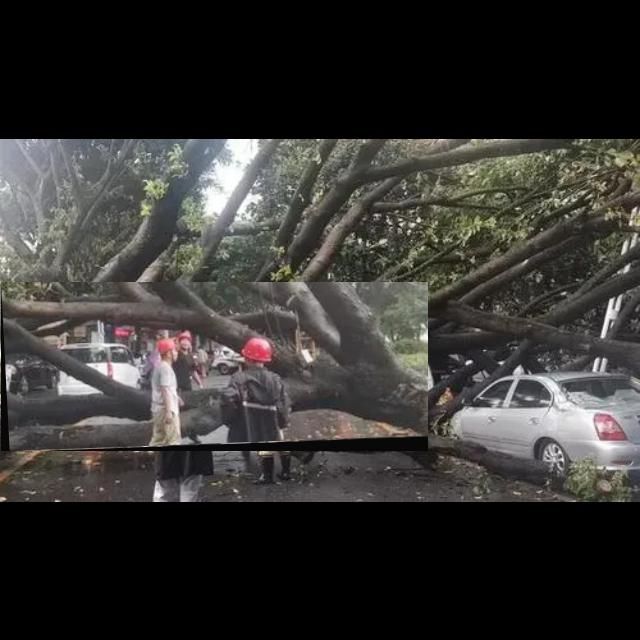Fallen Tree: (1, 282, 429, 452)
